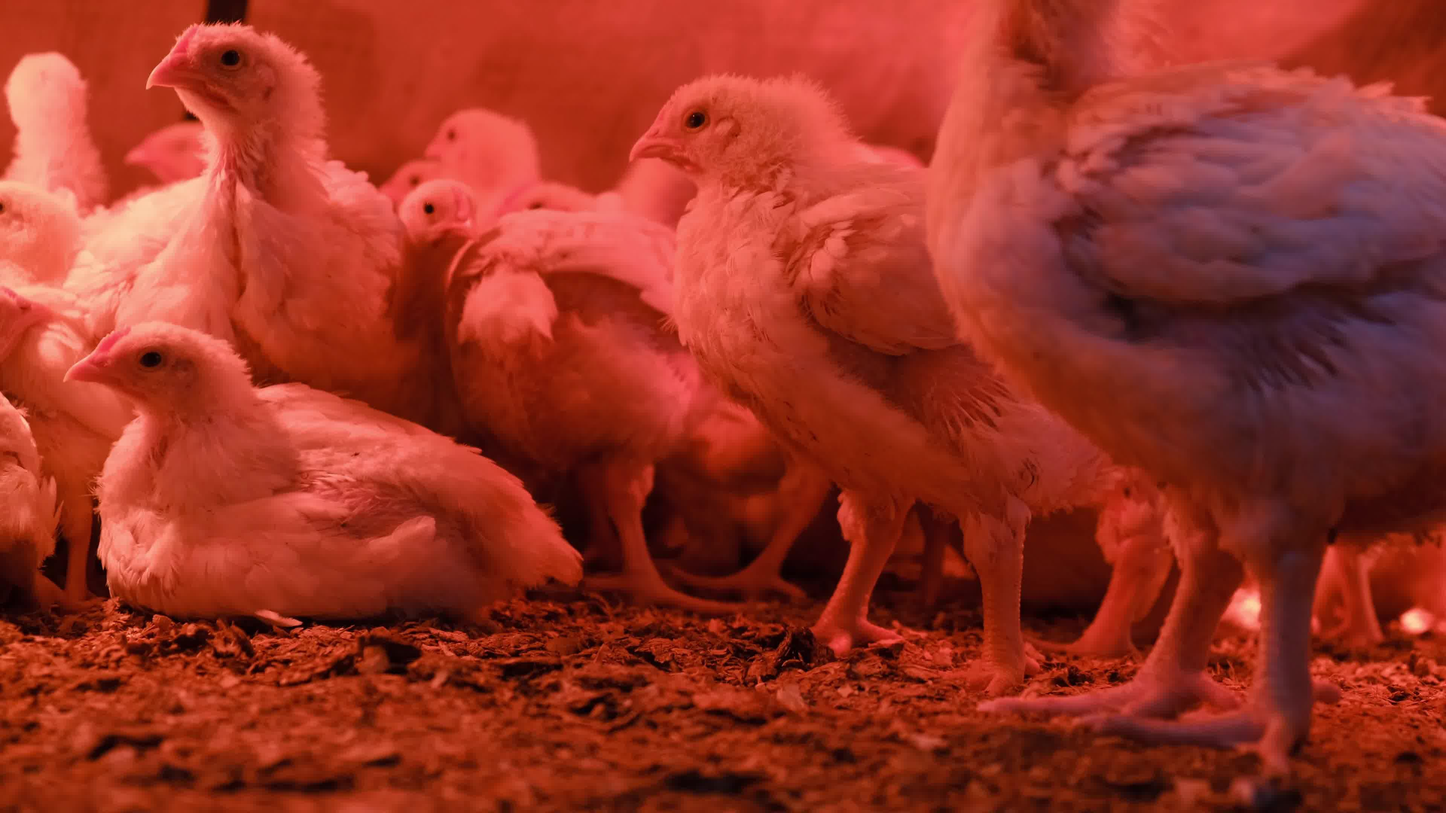AbNormal: (61, 318, 584, 619), (1311, 508, 1446, 655), (0, 281, 57, 626)
Normal: (917, 0, 1446, 777), (624, 76, 1129, 694), (415, 91, 731, 623), (58, 17, 418, 405), (2, 175, 149, 589), (3, 44, 102, 222), (382, 174, 482, 339), (119, 121, 222, 185), (369, 149, 450, 203), (503, 168, 602, 211)
